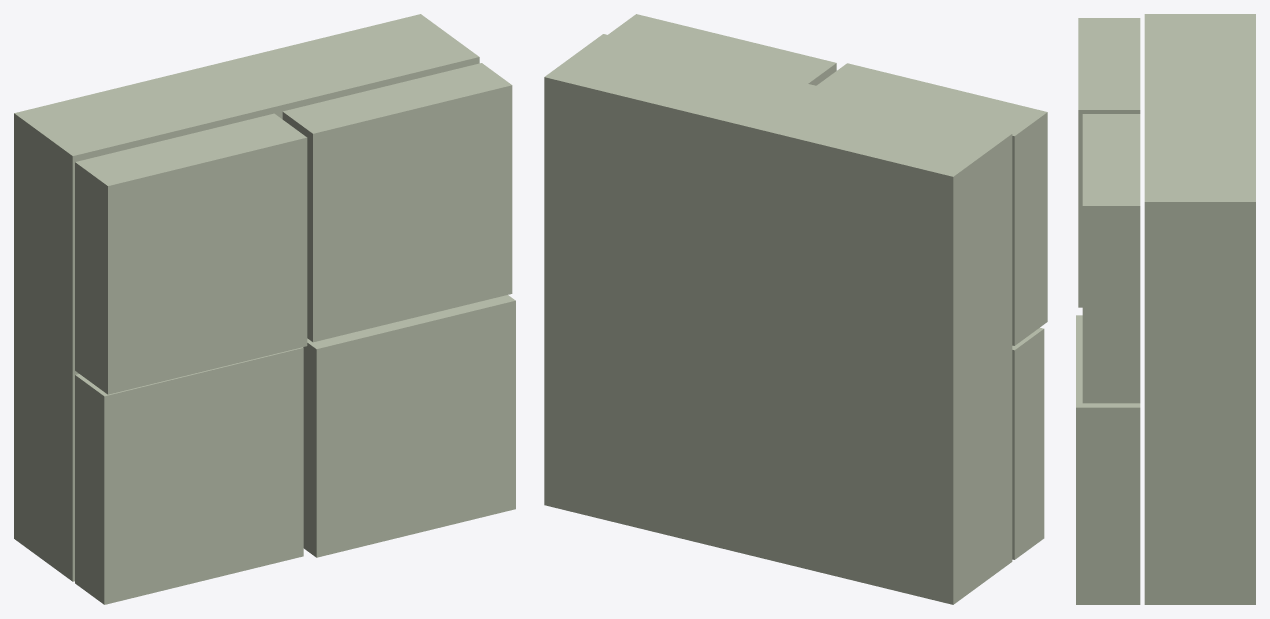
Rendered from Stone tile01.fbx.
The picture shows the model from 3 angles, left to right: view 1: azimuth 30°, elevation 25°; view 2: azimuth 150°, elevation 25°; view 3: azimuth 270°, elevation 25°; orthographic projection. The views are drawn at different scales.
Parts seen in each view (by area): view 1: group3, StoneTile_Plain:Mesh; view 2: StoneTile_Plain:Mesh, group3; view 3: StoneTile_Plain:Mesh, group3.
Part boxes in pixels (x1,y1,x2,y2): group3: [75, 63, 515, 604]; StoneTile_Plain:Mesh: [14, 14, 479, 581]; StoneTile_Plain:Mesh: [544, 34, 1012, 604]; group3: [608, 14, 1047, 559]; StoneTile_Plain:Mesh: [1144, 14, 1255, 604]; group3: [1076, 18, 1140, 604].
Size of the model in its own units: 2 by 2 by 0.8095.
